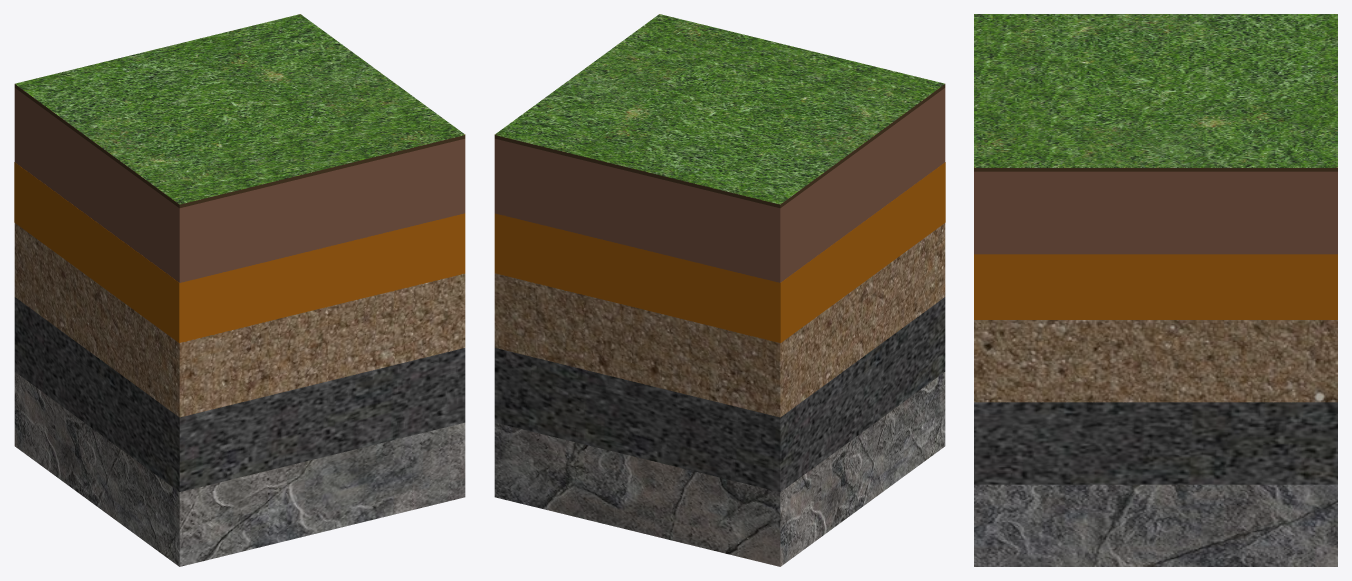
The picture shows the model from 3 angles, left to right: view 1: azimuth 30°, elevation 25°; view 2: azimuth 150°, elevation 25°; view 3: azimuth 270°, elevation 25°; orthographic projection. The views are drawn at different scales.
Parts seen in each view (by area): view 1: Object_23, Object_15, Object_13, Object_19, Object_17, Object_11, Object_21; view 2: Object_23, Object_15, Object_13, Object_19, Object_17, Object_11, Object_21; view 3: Object_23, Object_19, Object_15, Object_17, Object_13, Object_11, Object_21.
Part boxes in pixels (left/top/right/bottom): Object_23: left=15, top=14, right=465, bottom=204; Object_15: left=14, top=297, right=465, bottom=491; Object_13: left=14, top=372, right=465, bottom=566; Object_19: left=14, top=88, right=465, bottom=282; Object_17: left=14, top=223, right=465, bottom=417; Object_11: left=14, top=162, right=465, bottom=343; Object_21: left=14, top=84, right=465, bottom=208; Object_23: left=494, top=14, right=944, bottom=204; Object_15: left=494, top=297, right=945, bottom=492; Object_13: left=494, top=372, right=945, bottom=566; Object_19: left=494, top=88, right=945, bottom=282; Object_17: left=494, top=223, right=945, bottom=417; Object_11: left=494, top=162, right=945, bottom=343; Object_21: left=494, top=84, right=945, bottom=208; Object_23: left=974, top=14, right=1337, bottom=167; Object_19: left=974, top=171, right=1337, bottom=254; Object_15: left=974, top=402, right=1337, bottom=484; Object_17: left=974, top=320, right=1337, bottom=402; Object_13: left=974, top=484, right=1337, bottom=566; Object_11: left=974, top=254, right=1337, bottom=319; Object_21: left=974, top=168, right=1337, bottom=171.
Bounding box in the file's own units: 117 × 141 × 117.
7 materials, 4 textured.
